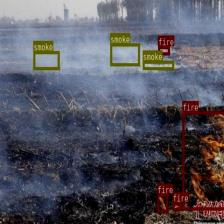fire: (182, 111, 224, 209), (157, 193, 167, 212), (158, 46, 169, 55), (172, 202, 181, 210)
smoke: (110, 42, 139, 66), (33, 51, 59, 69), (142, 60, 174, 69)
